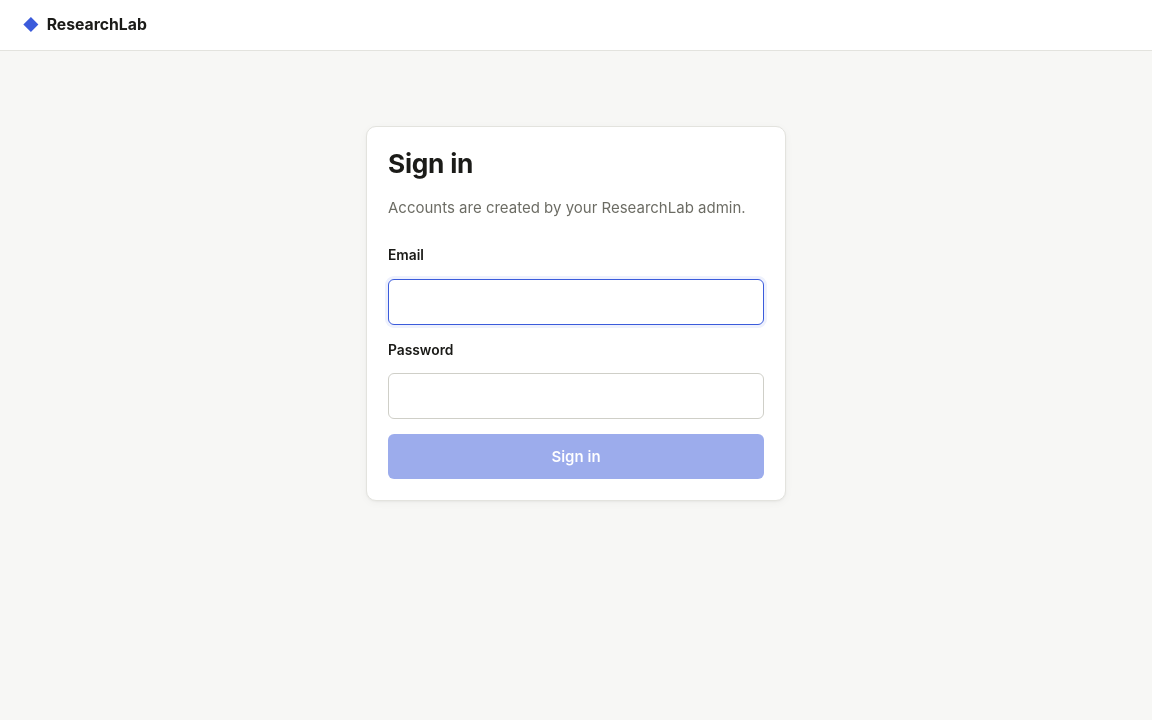
Test: sign-in › shows the sign-in page when signed out, then the dashboard after signing in
Expected: the heading "Sign in" is shown, x1=388 y1=148 x2=473 y2=179
Step 1. Type "tester@example.com" into the field labelled "Email" → (576, 302), box x1=388 y1=279 x2=764 y2=325
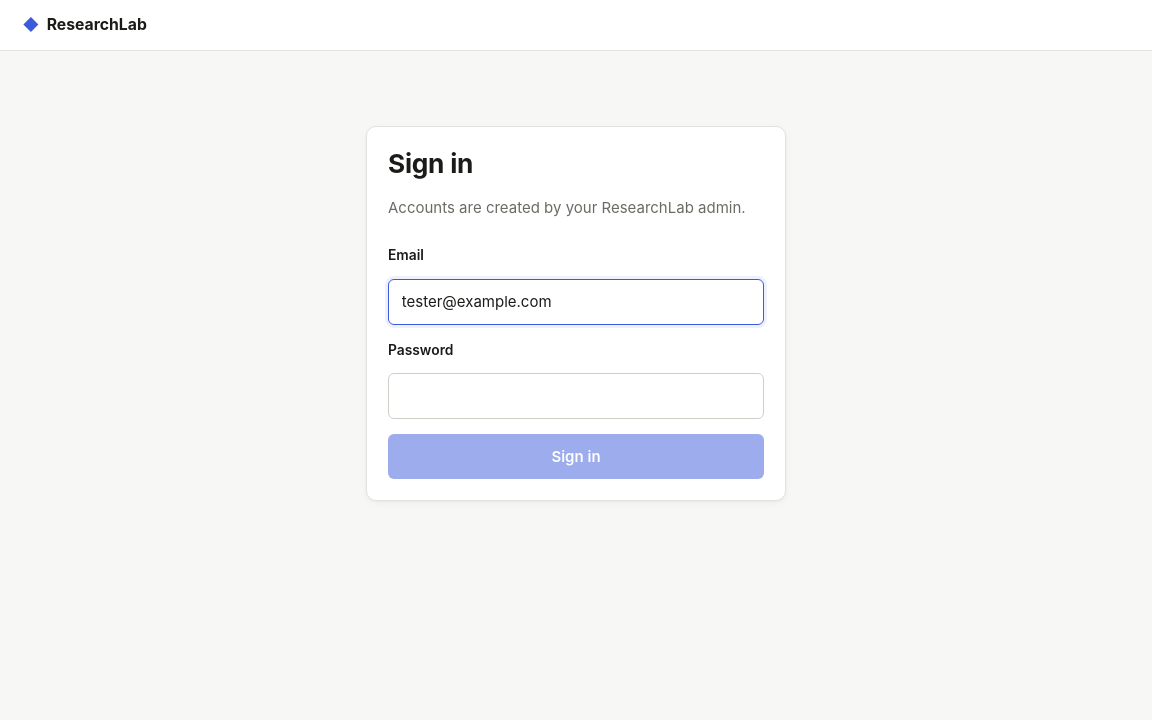
Step 2. Type "correct horse battery" into the password field labelled "Password" → (576, 396), box x1=388 y1=373 x2=764 y2=420
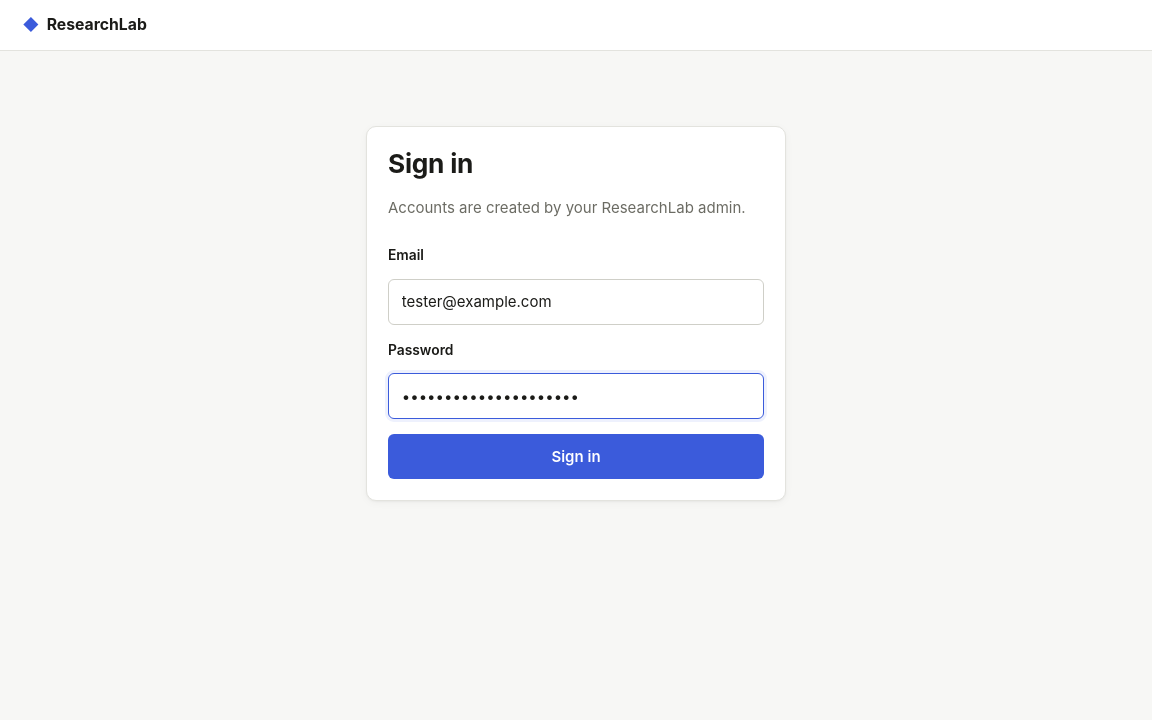
Step 3. Click the button "Sign in" → (576, 457), box x1=388 y1=434 x2=764 y2=479
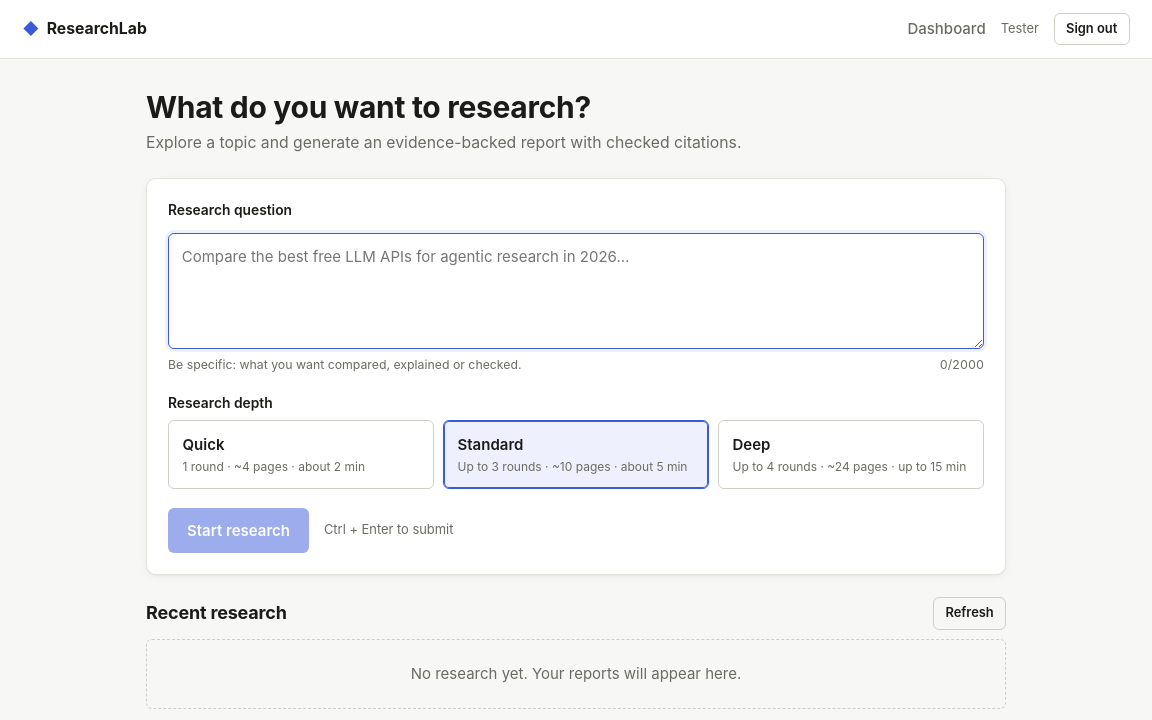
Now the heading "What do you want to research?" is shown, box x1=146 y1=89 x2=591 y2=125
Now the text "Tester" is shown, box x1=1001 y1=19 x2=1039 y2=39
